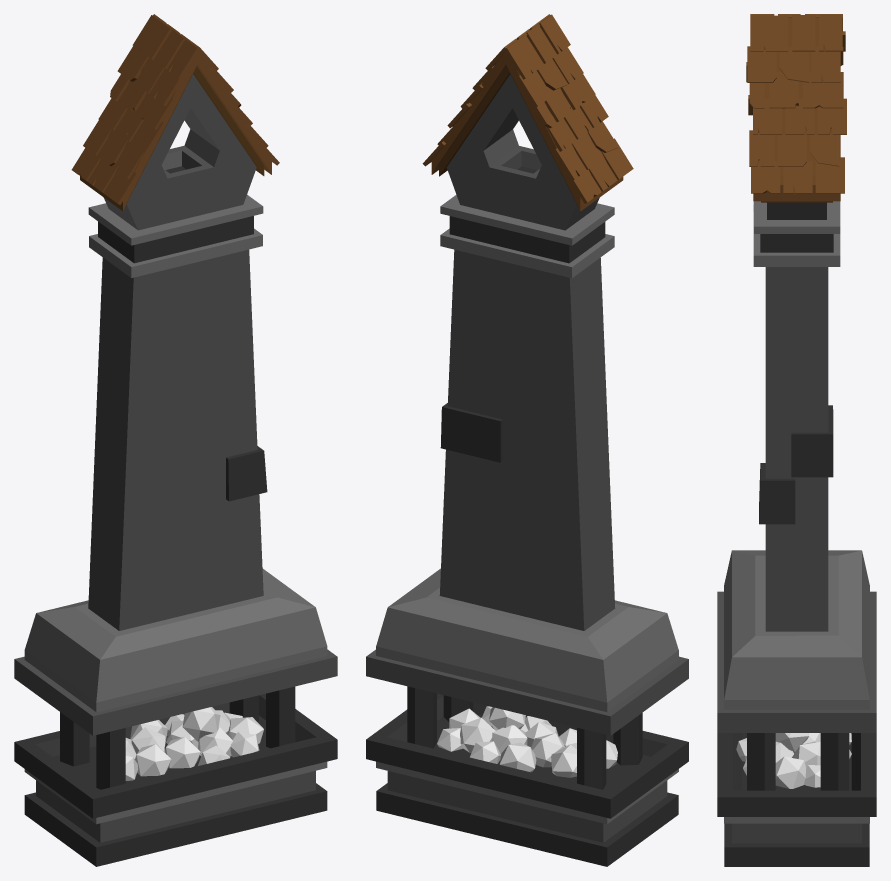
The model's file is G_Oven.fbx.
3 views of the same model, side by side, from view 1: azimuth 30°, elevation 25°; view 2: azimuth 150°, elevation 25°; view 3: azimuth 270°, elevation 25° (orthographic).
Visible parts, largest first — view 1: G_Oven; view 2: G_Oven; view 3: G_Oven.
Part boxes in pixels (left/top/right/bottom): G_Oven: left=14, top=14, right=337, bottom=866; G_Oven: left=366, top=14, right=688, bottom=866; G_Oven: left=717, top=14, right=876, bottom=866.
Size of the model in its own units: 178 by 544 by 98.81.
